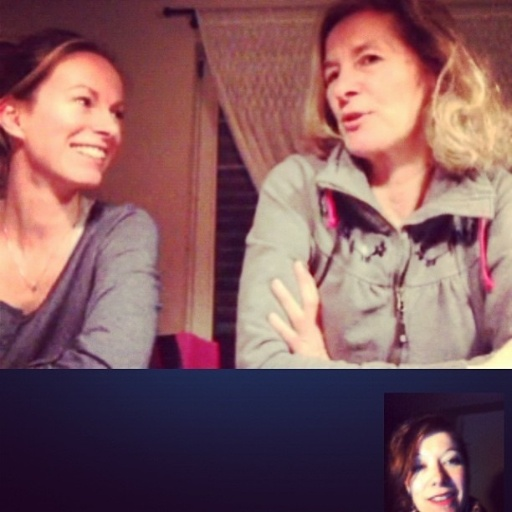hand: (266, 251, 339, 359)
